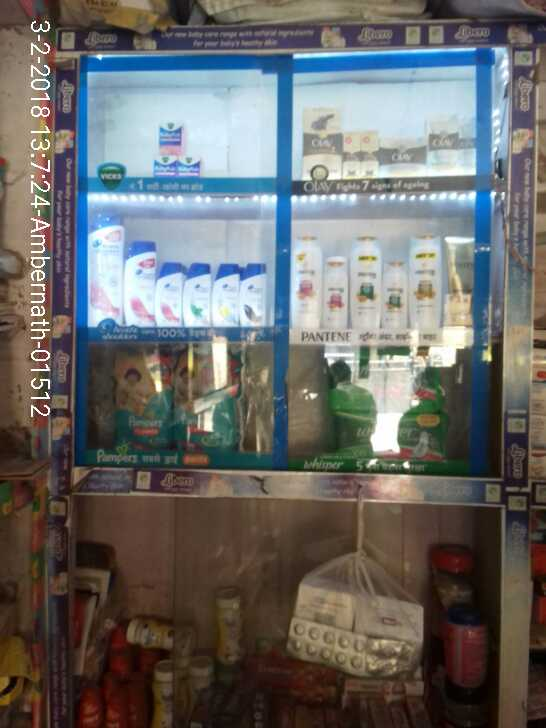vicks: (143, 118, 207, 180)
